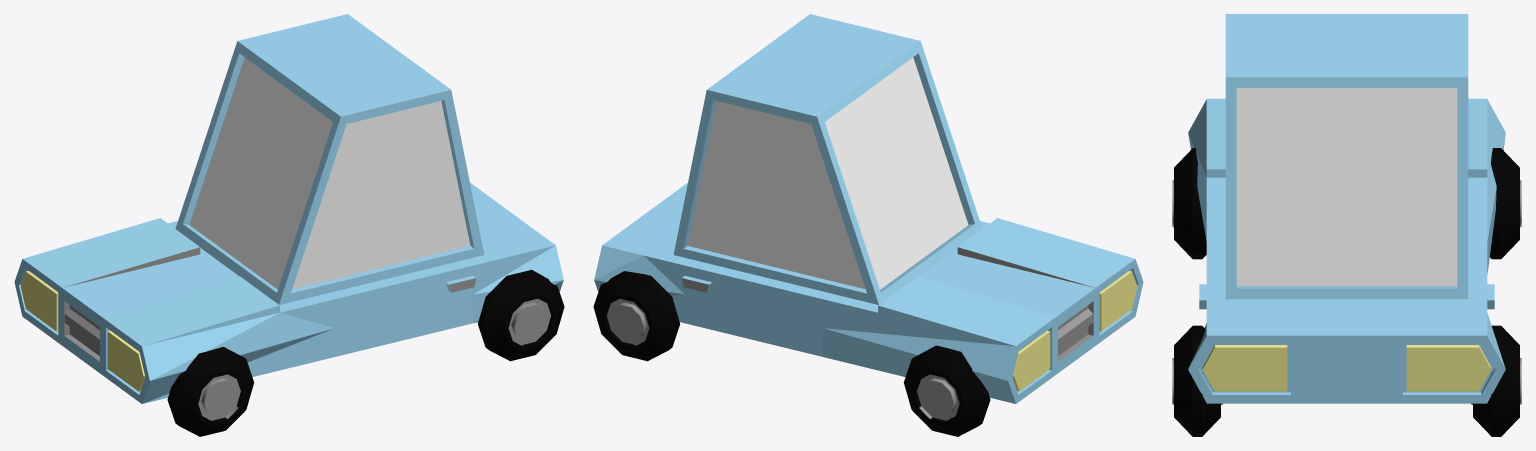
Rendered from low_poly_car.gltf.
The picture shows the model from 3 angles, left to right: view 1: azimuth 30°, elevation 25°; view 2: azimuth 150°, elevation 25°; view 3: azimuth 270°, elevation 25°; orthographic projection. The views are drawn at different scales.
Visible parts, largest first — view 1: Cube, Cylinder; view 2: Cube, Cylinder; view 3: Cube, Cylinder.
Part boxes in pixels (<box>): Cube: <box>14,14,563,403</box>; Cylinder: <box>167,270,564,436</box>; Cube: <box>594,14,1143,403</box>; Cylinder: <box>593,271,990,436</box>; Cube: <box>1188,14,1505,403</box>; Cylinder: <box>1172,148,1521,436</box>.
Size of the model in its own units: 302 by 189 by 187.
